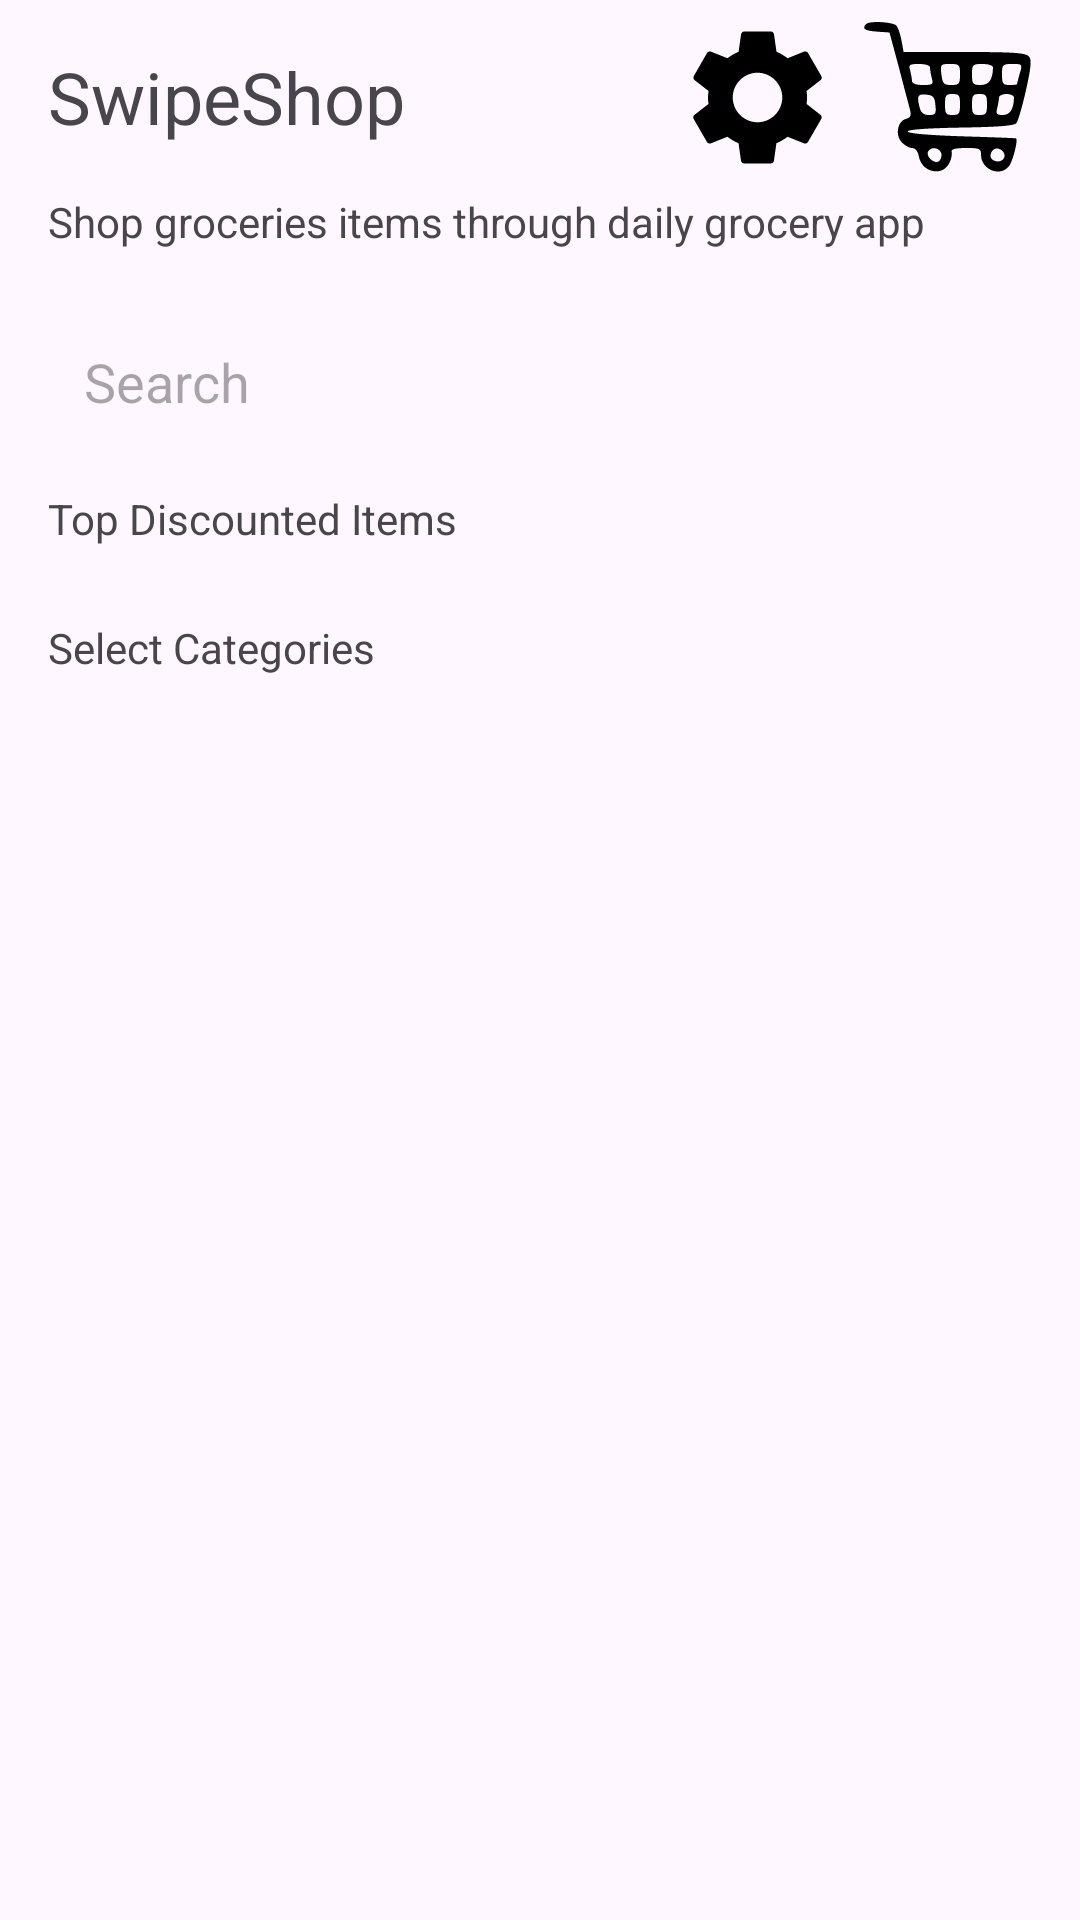

Where to tap for icons on this 1080px x 1920px app screen, as point (x, y):
account settings: point (757, 97)
shoppingcart: point (947, 97)
